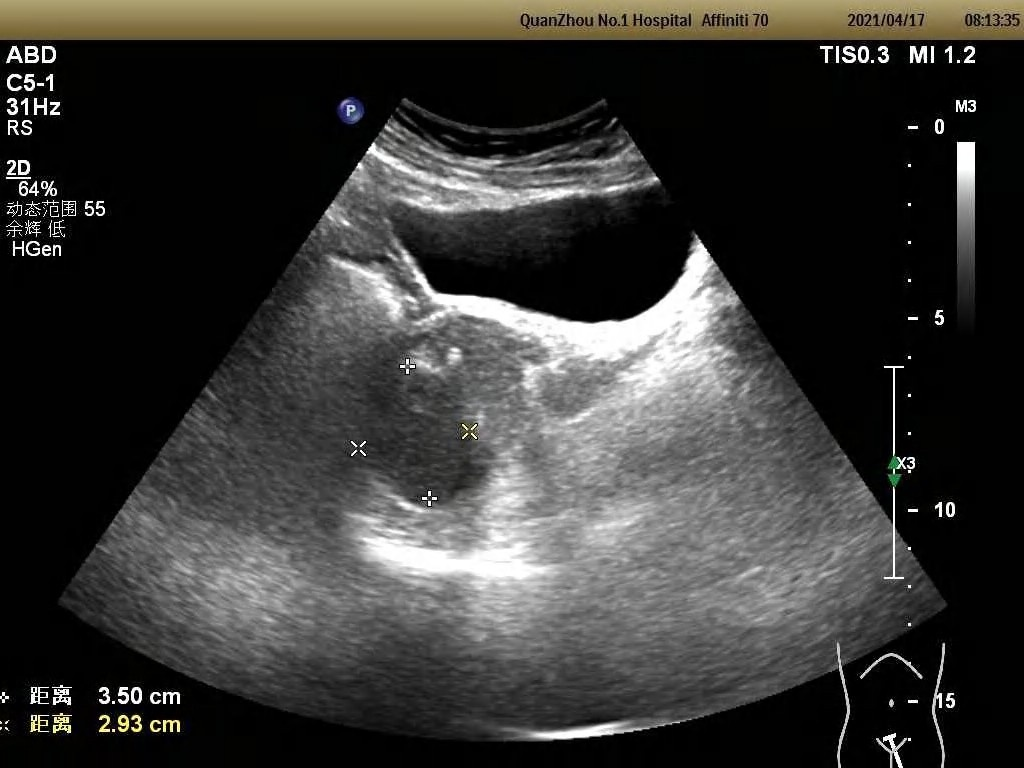肌瘤: (358, 366, 471, 503)
